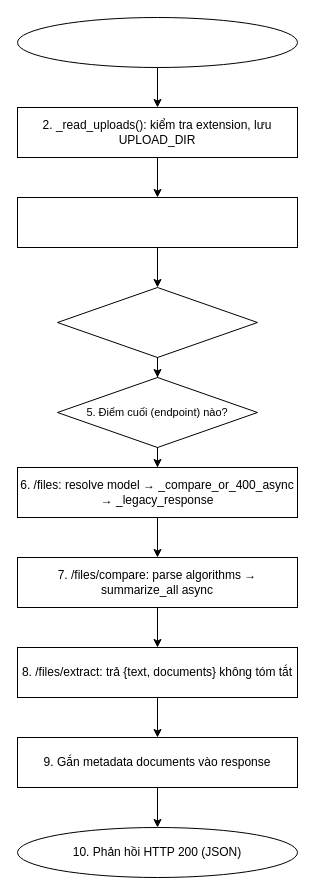
Image size: 315x895. Some labels were removed from this diagram. Here are the shapes that lost their labels. From the top down, the centre of each, then its label:
(x=157, y=42): 1. POST /summarize/files | /files/compare | /files/extract
(x=157, y=222): 3. extract_text_from_file() cho từng file
(x=157, y=322): 4. Có text hợp lệ?
